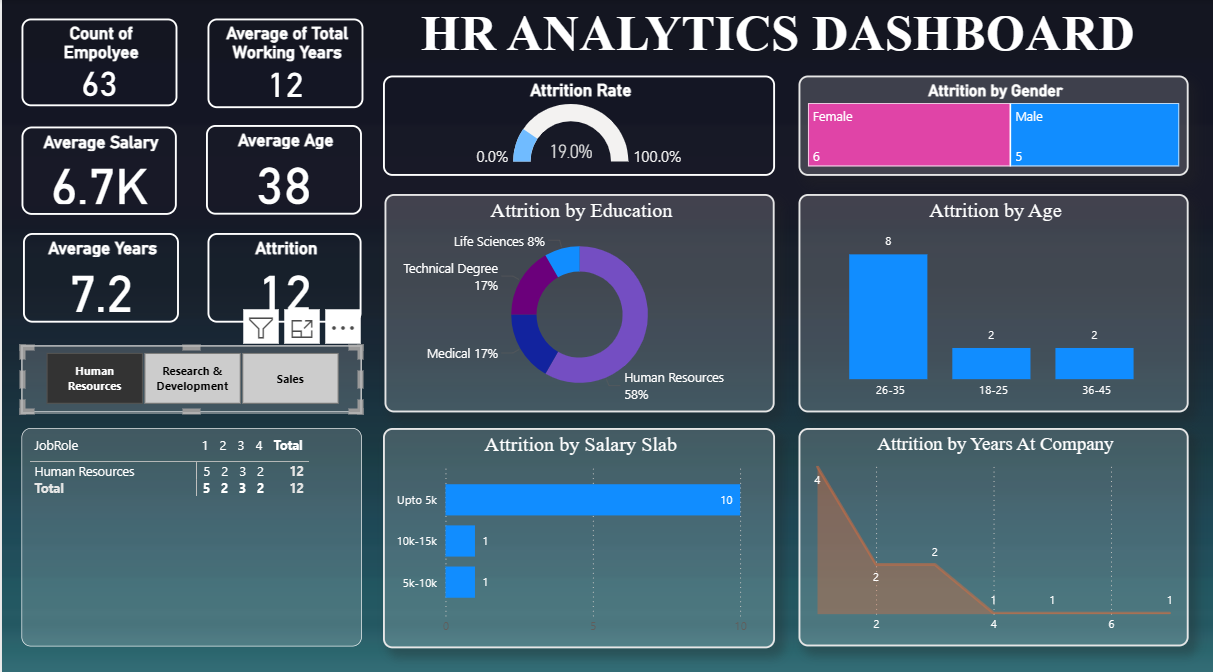

The page's visual inventory and layout, read from the dashboard file:
{"tool":"powerbi","page":{"name":"Page 1","canvas":[1280,717],"ordinal":0},"visuals":[{"type":"card","title":"Count of  Empolyee","fields":{"Values":["CountNonNull(HR_Analytics.EmpID)"]},"box":[20.8,20.8,164.4,92.6],"z":0},{"type":"textbox","box":[381.7,0,875,85],"z":1000},{"type":"gauge","title":"Attrition  Rate","fields":{"Y":["HR_Analytics.AttritionRate"]},"box":[402.5,81.3,413.9,105.8],"z":2000},{"type":"card","title":"Attrition","fields":{"Values":["Sum(HR_Analytics.AttritionCount)"]},"box":[217.3,247.6,162.5,94.5],"z":3000},{"type":"card","title":"Average Age","fields":{"Values":["Avg(HR_Analytics.Age)"]},"box":[215.4,132.3,164.4,94.5],"z":4000},{"type":"card","title":"Average Years","fields":{"Values":["Avg(HR_Analytics.YearsAtCompany)"]},"box":[22.7,247.6,164.4,94.5],"z":5000},{"type":"card","title":"Average Salary","fields":{"Values":["Avg(HR_Analytics.MonthlyIncome)"]},"box":[20.8,134.2,164,93],"z":6000},{"type":"donutChart","title":"Attrition by Education","fields":{"Category":["HR_Analytics.EducationField"],"Y":["Sum(HR_Analytics.AttritionCount)"]},"box":[404.4,206,412,230.6],"z":7000},{"type":"columnChart","title":"Attrition by Age","fields":{"Category":["HR_Analytics.AgeGroup"],"Y":["Sum(HR_Analytics.AttritionCount)"]},"box":[841,206,412,230.6],"z":8000},{"type":"barChart","title":"Attrition by Salary Slab","fields":{"Category":["HR_Analytics.SalarySlab"],"Y":["Sum(HR_Analytics.AttritionCount)"]},"box":[402.5,453.5,413.9,232.4],"z":9000},{"type":"areaChart","title":"Attrition by Years At Company","fields":{"Category":["HR_Analytics.YearsAtCompany"],"Y":["Sum(HR_Analytics.AttritionCount)"]},"box":[841,453.5,412,230.6],"z":10000},{"type":"treemap","title":"Attrition by Gender","fields":{"Group":["HR_Analytics.Gender"],"Values":["Sum(HR_Analytics.AttritionCount)"]},"box":[841,81.3,412,105.8],"z":12000},{"type":"slicer","fields":{"Values":["HR_Analytics.Department"]},"box":[20.8,366.6,359.1,69.9],"z":13000},{"type":"pivotTable","fields":{"Rows":["HR_Analytics.JobRole"],"Columns":["HR_Analytics.JobSatisfaction"],"Values":["Sum(HR_Analytics.AttritionCount)"]},"box":[20.8,453.5,359.1,230.6],"z":14000},{"type":"card","title":"Average of Total Working Years","fields":{"Values":["Avg(HR_Analytics.TotalWorkingYears)"]},"box":[217.3,20.8,164.4,94.5],"z":15000}]}

Visuals, with their boxes in screenshot pixels (x1, y1, x2, y2), scaled from the page's 1280x717 canvas onto the 1213x672 screenshot:
"Count of  Empolyee" card: pyautogui.locateOnScreen(20, 19, 176, 106)
textbox: pyautogui.locateOnScreen(362, 0, 1191, 80)
"Attrition  Rate" gauge: pyautogui.locateOnScreen(381, 76, 774, 175)
"Attrition" card: pyautogui.locateOnScreen(206, 232, 360, 321)
"Average Age" card: pyautogui.locateOnScreen(204, 124, 360, 213)
"Average Years" card: pyautogui.locateOnScreen(22, 232, 177, 321)
"Average Salary" card: pyautogui.locateOnScreen(20, 126, 175, 213)
"Attrition by Education" donutChart: pyautogui.locateOnScreen(383, 193, 774, 409)
"Attrition by Age" columnChart: pyautogui.locateOnScreen(797, 193, 1187, 409)
"Attrition by Salary Slab" barChart: pyautogui.locateOnScreen(381, 425, 774, 643)
"Attrition by Years At Company" areaChart: pyautogui.locateOnScreen(797, 425, 1187, 641)
"Attrition by Gender" treemap: pyautogui.locateOnScreen(797, 76, 1187, 175)
slicer - HR_Analytics.Department: pyautogui.locateOnScreen(20, 344, 360, 409)
pivotTable - HR_Analytics.JobRole x HR_Analytics.JobSatisfaction: pyautogui.locateOnScreen(20, 425, 360, 641)
"Average of Total Working Years" card: pyautogui.locateOnScreen(206, 19, 362, 108)
